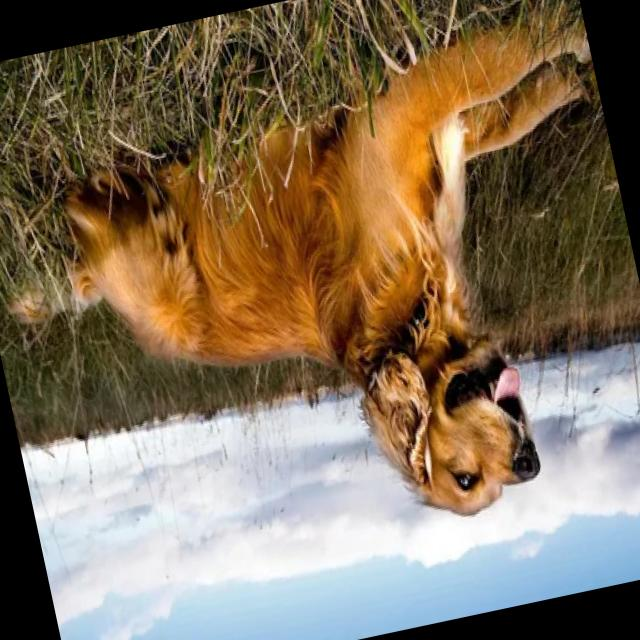Dog: (280, 47, 560, 543)
